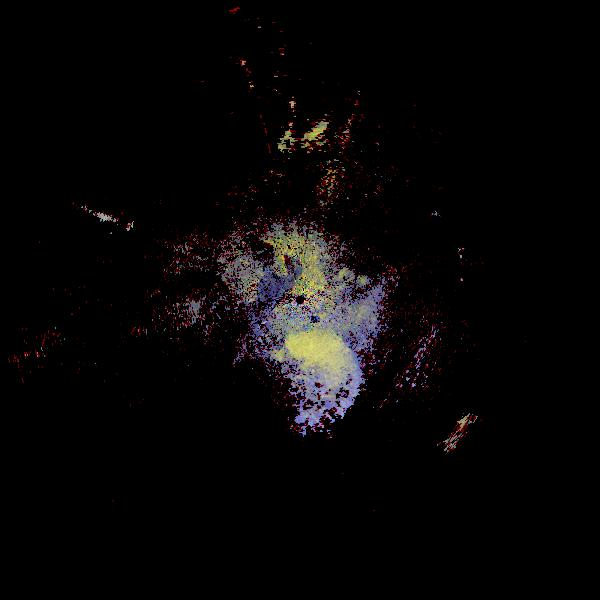roost: (228, 302, 384, 458), (413, 399, 524, 510)
